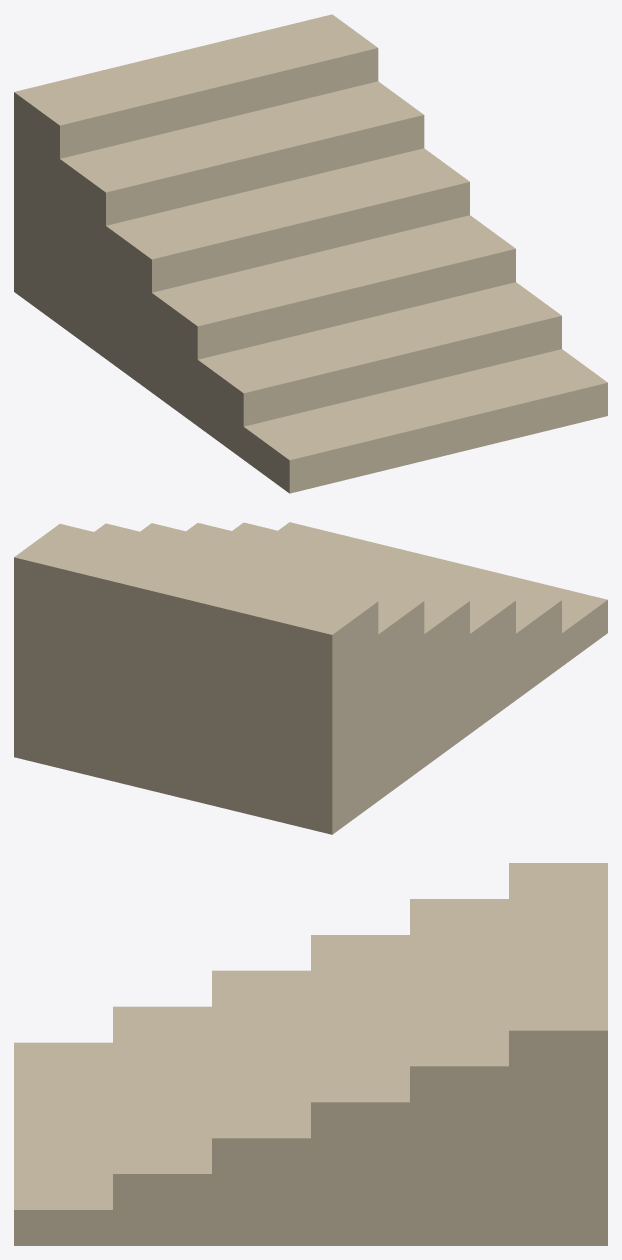
The model's file is stairs.glb.
3 views of the same model, one above another, from view 1: azimuth 30°, elevation 25°; view 2: azimuth 150°, elevation 25°; view 3: azimuth 270°, elevation 25° (orthographic). The views are drawn at different scales.
Parts seen in each view (by area): view 1: stairs; view 2: stairs; view 3: stairs.
Part boxes in pixels (left/top/right/bottom): stairs: left=14, top=14, right=607, bottom=493; stairs: left=14, top=522, right=607, bottom=834; stairs: left=14, top=863, right=607, bottom=1245.
Bounding box in the file's own units: 2 × 1.2 × 3.
